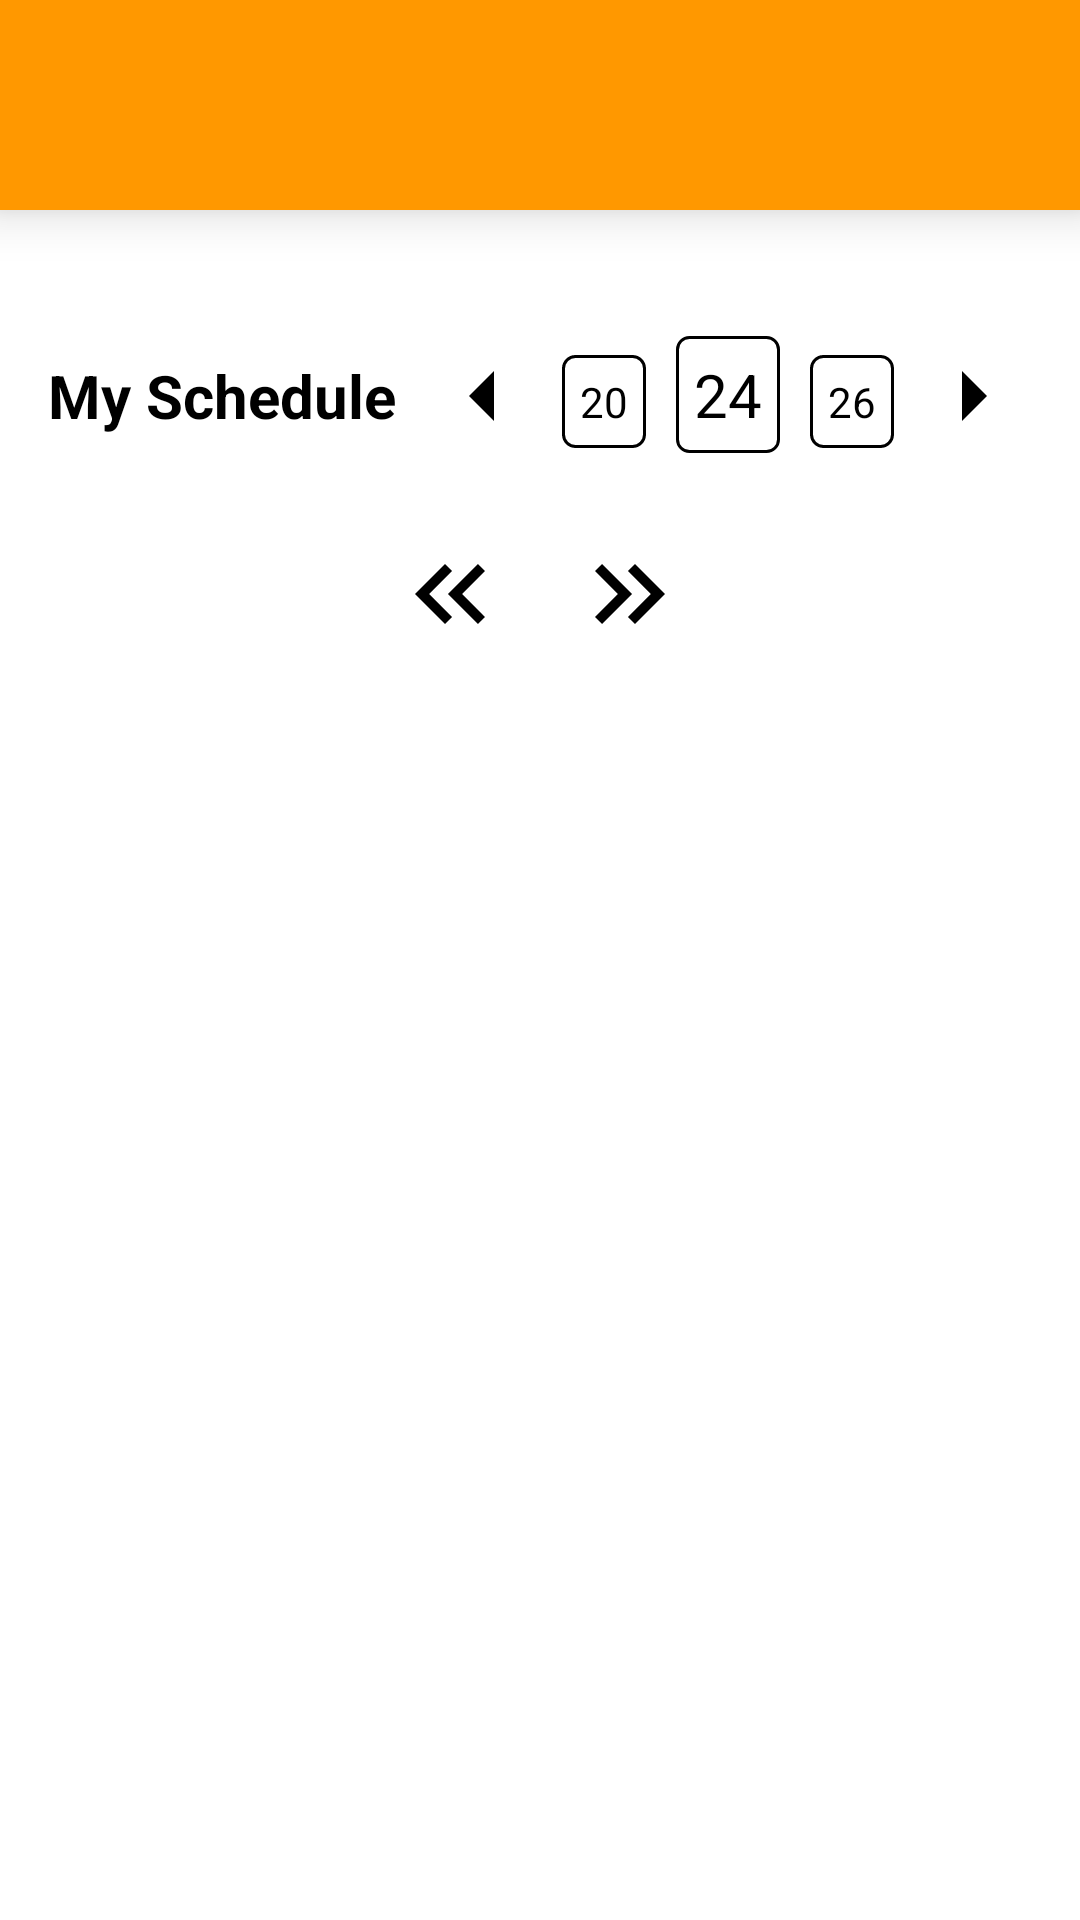

Screen size 1080px×1920px. Icon name, then its center in pixels as [x,y]:
arrow left: [481,396]
arrow right: [974,396]
keyboard double arrow left: [450,594]
keyboard double arrow right: [630,594]
